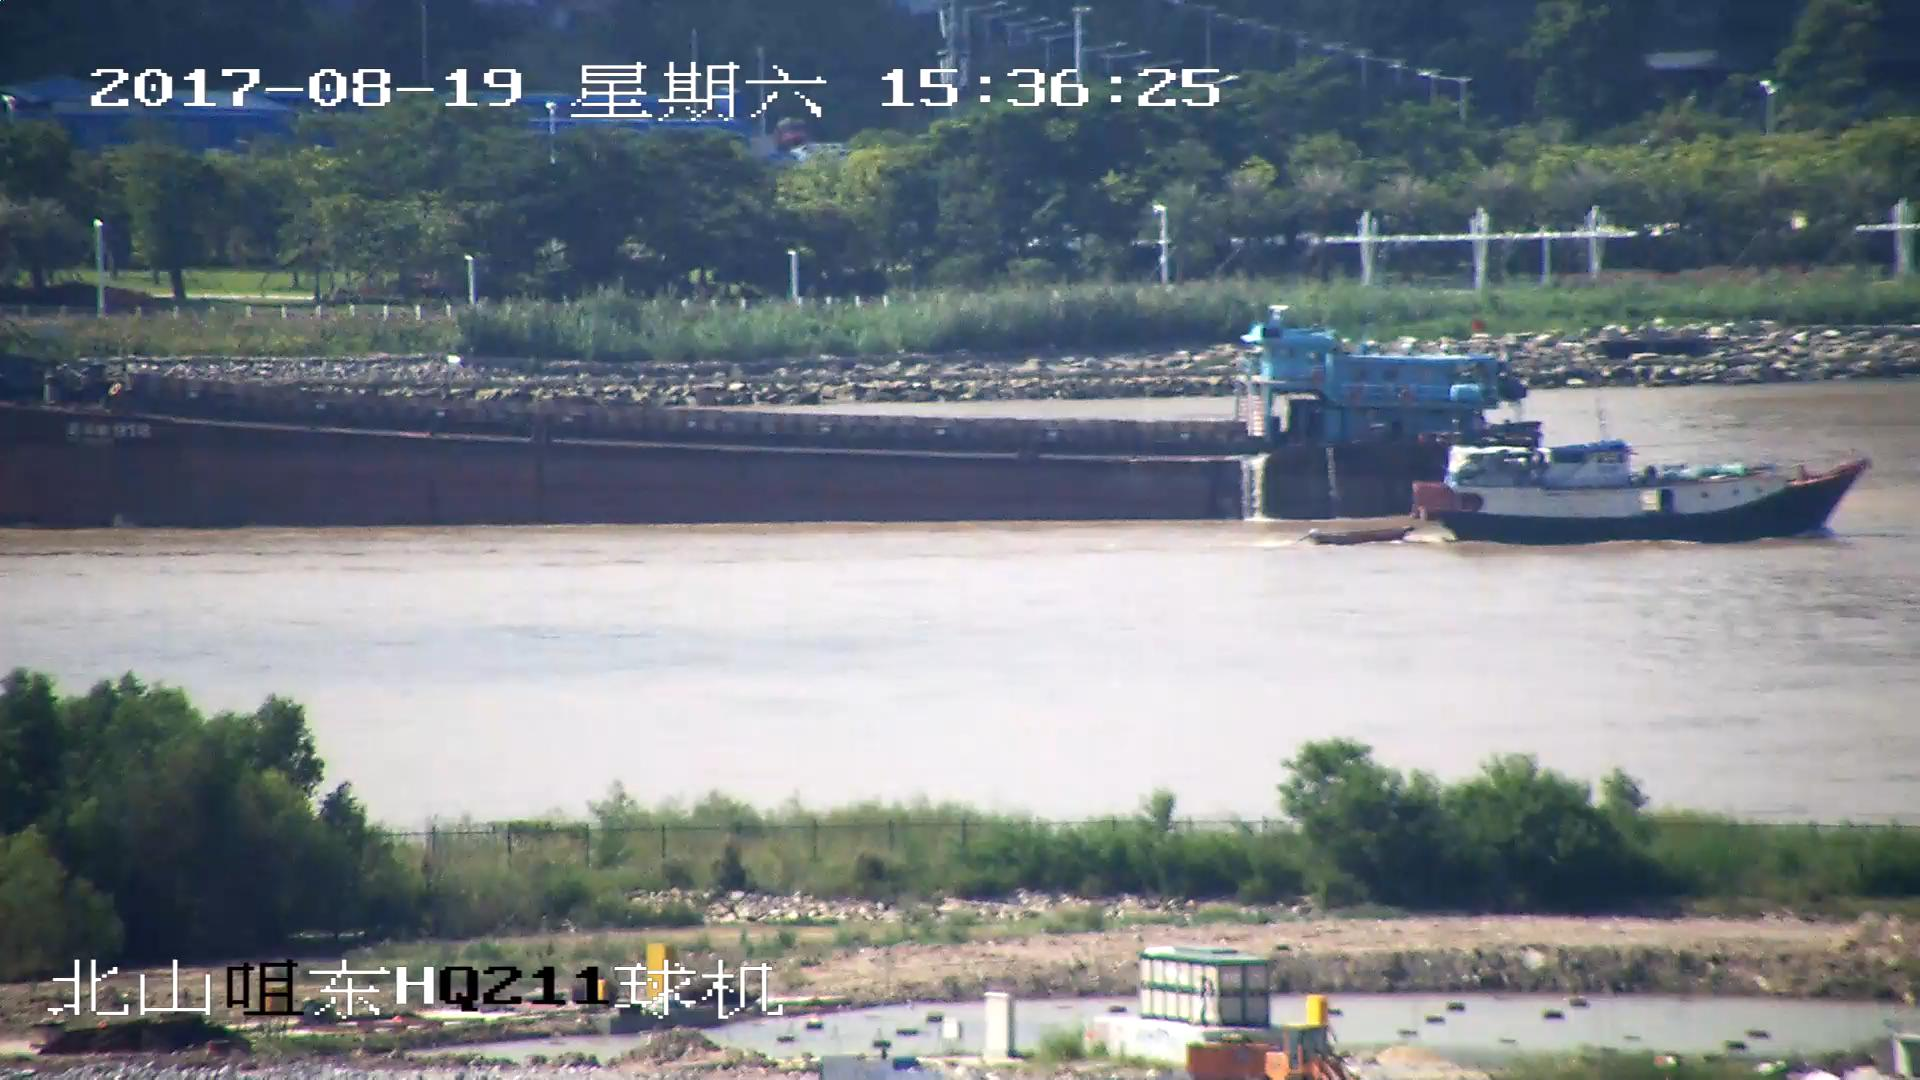bulk cargo carrier: (1, 310, 1547, 527)
fishing boat: (1315, 437, 1869, 542)
